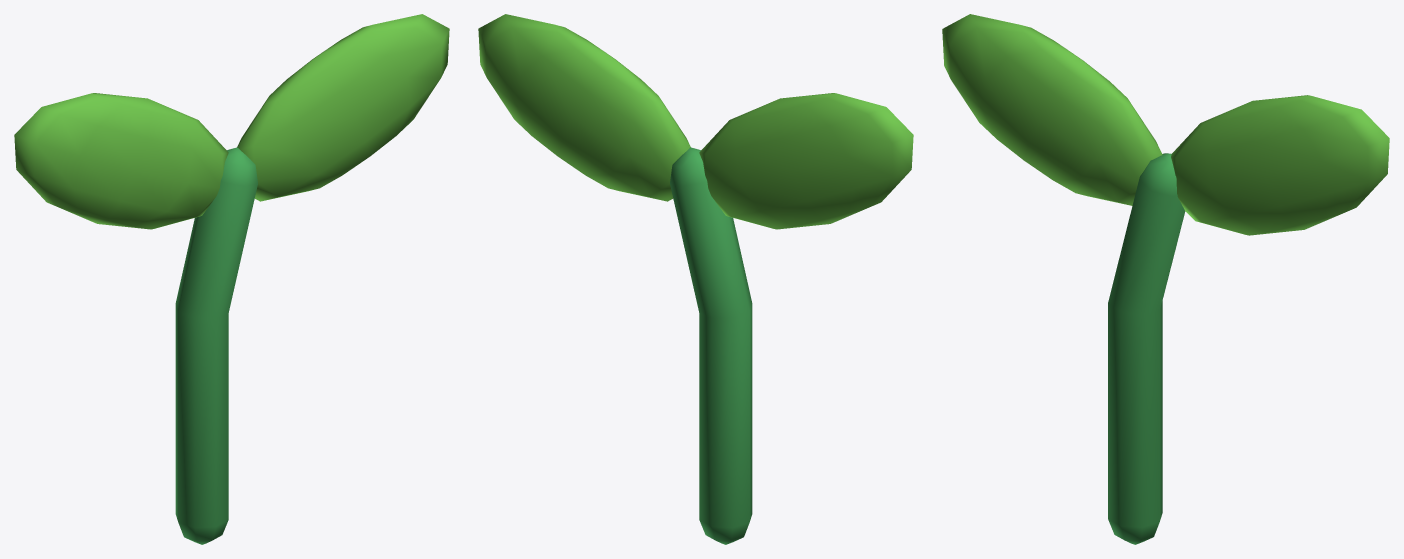
File: hat_sprout.glb
3 renders of one model, left to right at view 1: azimuth 30°, elevation 25°; view 2: azimuth 150°, elevation 25°; view 3: azimuth 330°, elevation 25°, orthographic. The views are drawn at different scales.
Parts seen in each view (by area): view 1: hat_sprout; view 2: hat_sprout; view 3: hat_sprout.
Boxes of the visible parts, x1,y1,x2,y2 form: hat_sprout: (14, 14, 449, 544); hat_sprout: (478, 14, 913, 544); hat_sprout: (942, 14, 1389, 544).
Size of the model in its own units: 0.2188 by 0.2299 by 0.024.
